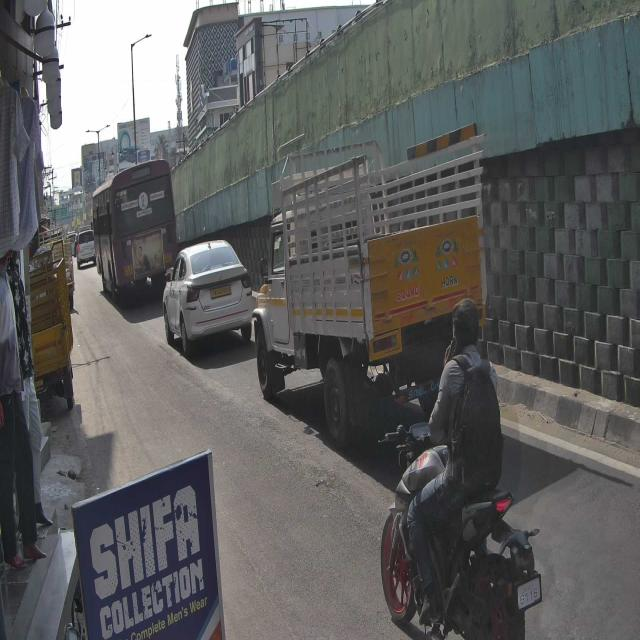single_rider: (375, 292, 546, 640)
